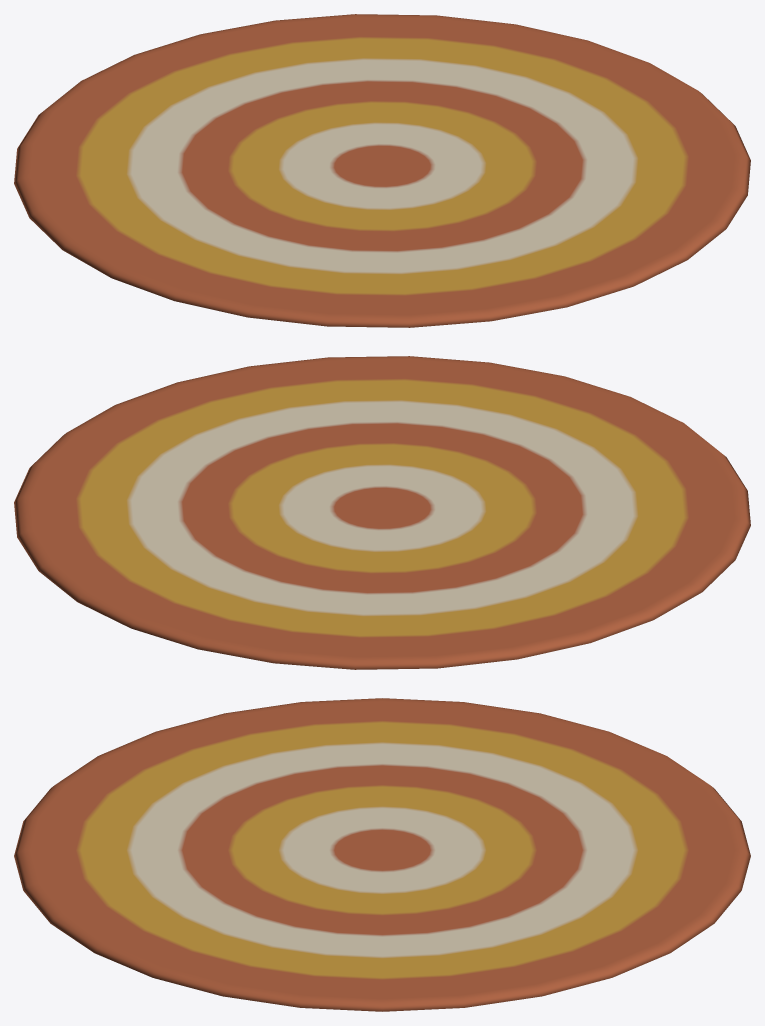
The model's file is rug.glb.
3 renders of one model, top to bottom at view 1: azimuth 30°, elevation 25°; view 2: azimuth 150°, elevation 25°; view 3: azimuth 270°, elevation 25°, orthographic.
Visible parts, largest first — view 1: rug; view 2: rug; view 3: rug.
Boxes of the visible parts, x1=… form: rug: x1=14, y1=14, x2=750, y2=327; rug: x1=14, y1=356, x2=750, y2=669; rug: x1=14, y1=698, x2=750, y2=1011.
Bounding box in the file's own units: 1.6 × 0.022 × 1.6.
